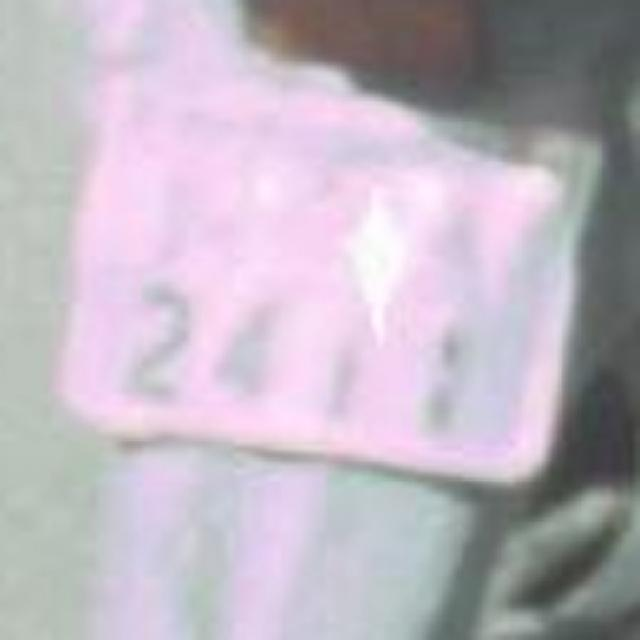0: (392, 289, 520, 456)
2: (104, 264, 208, 408)
3: (395, 308, 520, 440)
4: (200, 269, 295, 416)
7: (244, 444, 404, 640)
P: (155, 136, 260, 264)
